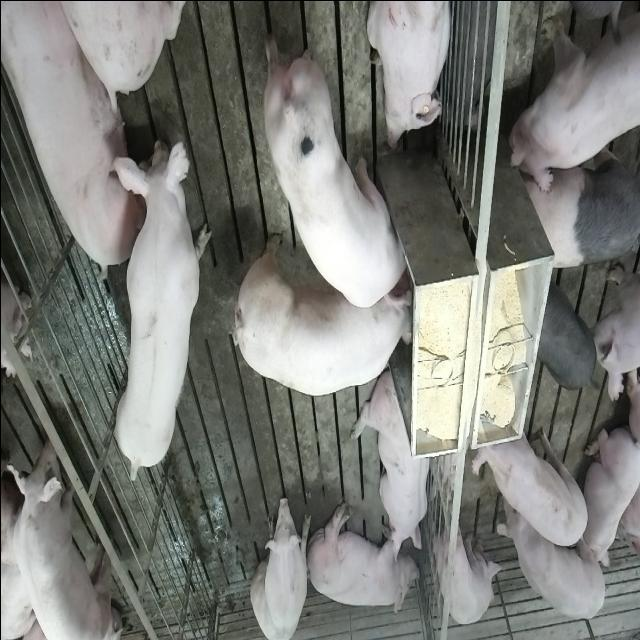Feeding: (261, 30, 410, 310), (238, 234, 420, 396)
Lateral_lying: (304, 500, 418, 618)
Sitting: (250, 493, 310, 640)
Standing: (112, 127, 211, 485), (504, 0, 638, 194), (0, 426, 115, 640), (517, 129, 638, 271), (471, 414, 589, 548), (494, 492, 606, 622), (436, 510, 506, 626), (534, 279, 596, 391)
Sternal_lying: (352, 366, 432, 560), (368, 0, 454, 149), (580, 424, 637, 570)
